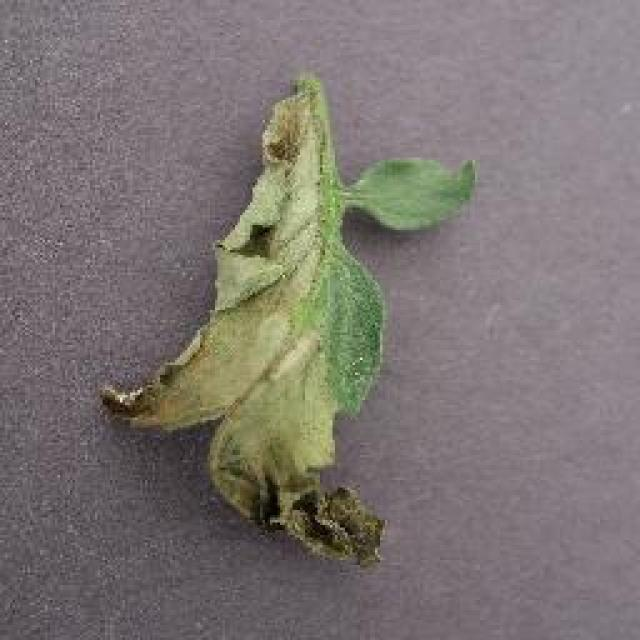Tomato Late Blight: (155, 82, 362, 598)
